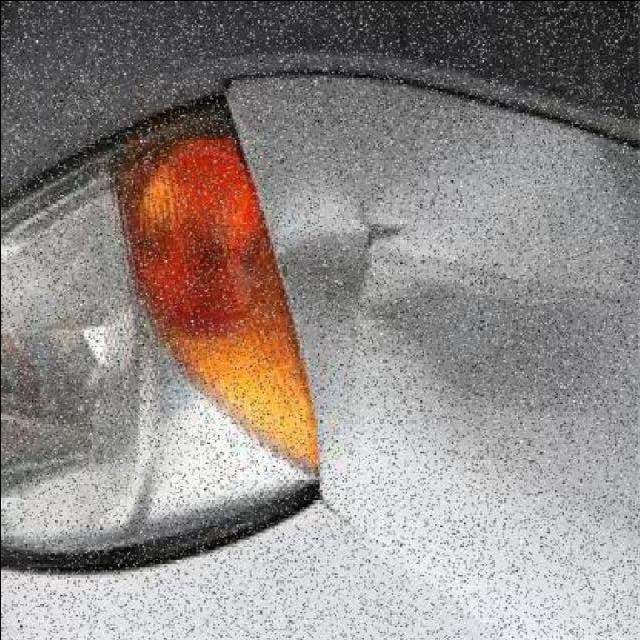fender-dent: (228, 53, 640, 637)
